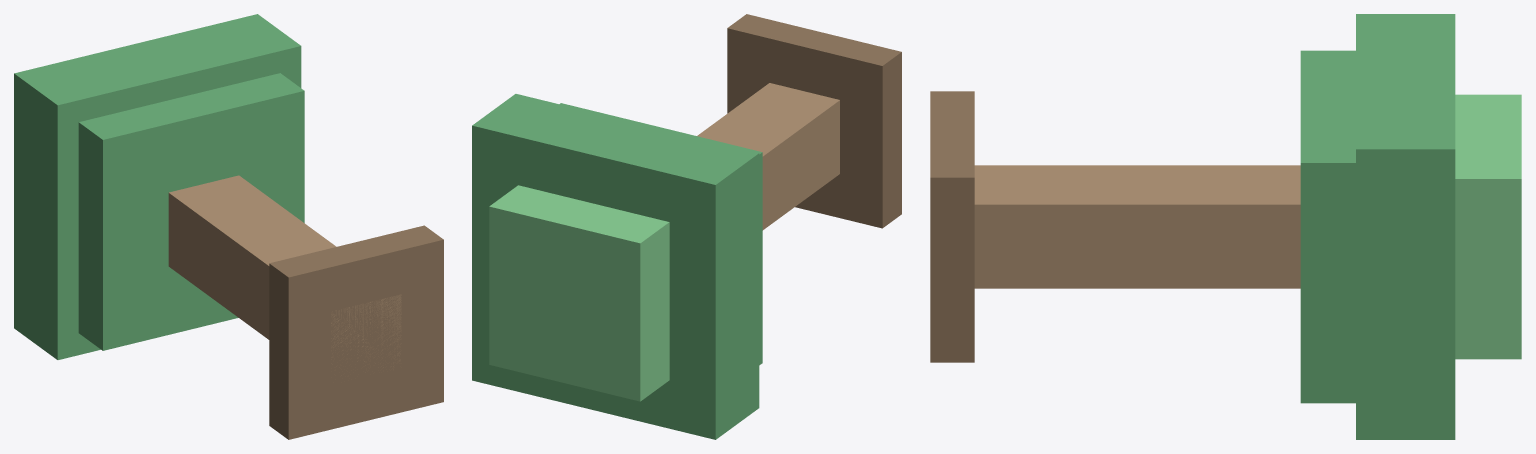
Rendered from resin_tree.glb.
3 views of the same model, side by side, from view 1: azimuth 30°, elevation 25°; view 2: azimuth 150°, elevation 25°; view 3: azimuth 270°, elevation 25° (orthographic). The views are drawn at different scales.
Visible parts, largest first — view 1: resin_tree_LeafLow, resin_tree_LeafMid, resin_tree_Roots, resin_tree_TrunkMain; view 2: resin_tree_LeafMid, resin_tree_LeafTop, resin_tree_Roots, resin_tree_TrunkMain, resin_tree_LeafLow; view 3: resin_tree_LeafMid, resin_tree_TrunkMain, resin_tree_LeafLow, resin_tree_LeafTop, resin_tree_Roots.
Boxes of the visible parts, box(x1,y1,x2,y2) form: resin_tree_LeafLow: box(78, 73, 304, 350); resin_tree_LeafMid: box(14, 14, 301, 359); resin_tree_Roots: box(269, 225, 443, 439); resin_tree_TrunkMain: box(168, 175, 401, 375); resin_tree_LeafMid: box(472, 94, 759, 439); resin_tree_LeafTop: box(489, 185, 669, 401); resin_tree_Roots: box(727, 14, 901, 228); resin_tree_TrunkMain: box(697, 83, 839, 230); resin_tree_LeafLow: box(559, 103, 762, 365); resin_tree_LeafMid: box(1356, 14, 1455, 439); resin_tree_TrunkMain: box(974, 165, 1300, 288); resin_tree_LeafLow: box(1300, 50, 1355, 403); resin_tree_LeafTop: box(1455, 94, 1521, 359); resin_tree_Roots: box(930, 91, 974, 362).
Size of the model in its own units: 1.45 by 1.45 by 2.67.
